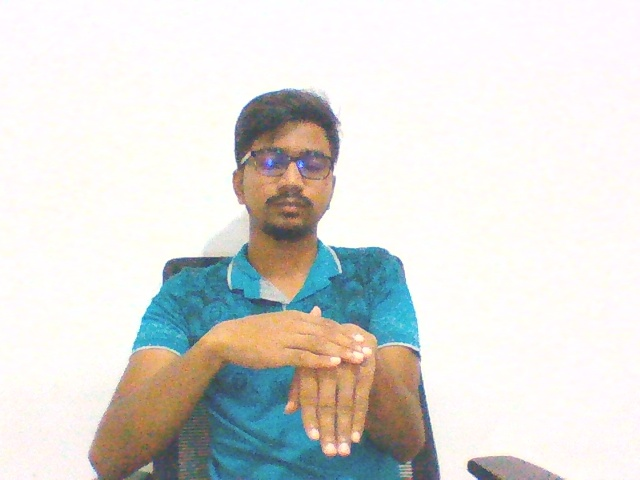pineapple: (196, 299, 387, 466)
